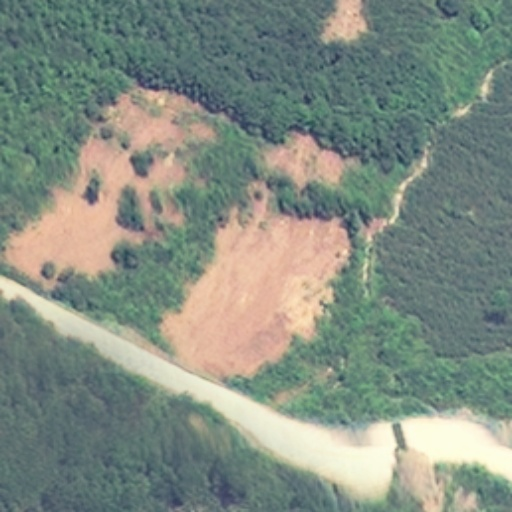landslide: (7, 88, 352, 386), (320, 4, 369, 41)
